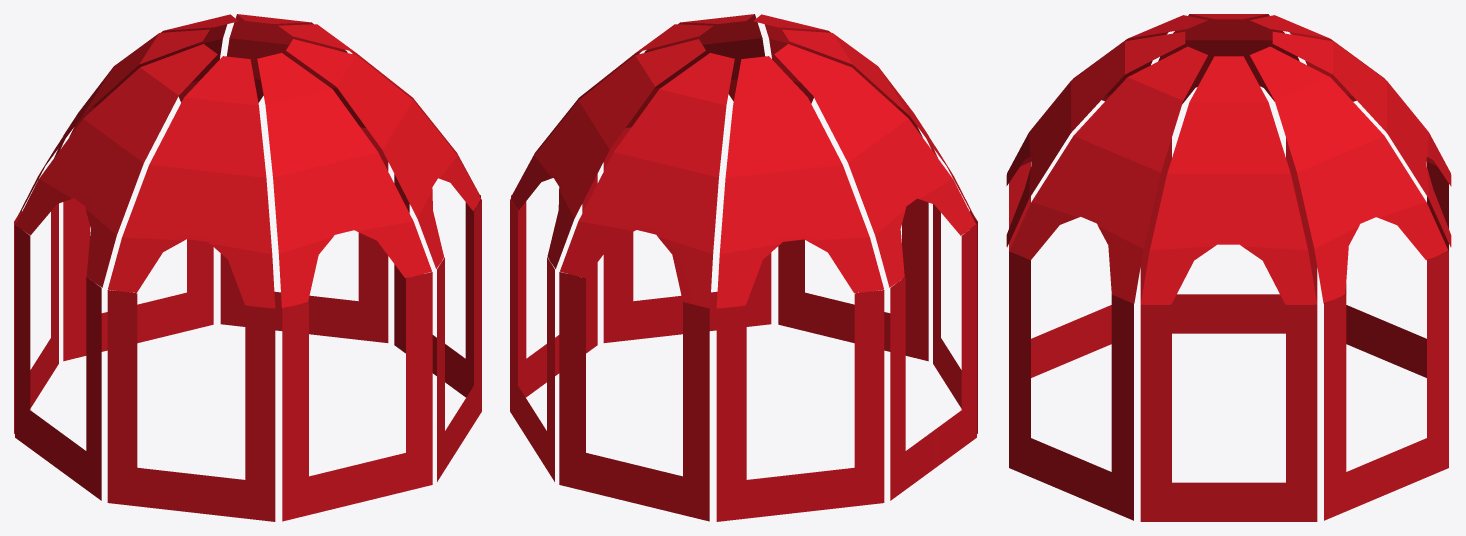
The model's file is wallpaper.glb.
3 renders of one model, left to right at view 1: azimuth 30°, elevation 25°; view 2: azimuth 150°, elevation 25°; view 3: azimuth 270°, elevation 25°, orthographic.
Visible parts, largest first — view 1: wallpaper; view 2: wallpaper; view 3: wallpaper.
Part boxes in pixels (<box>): wallpaper: <box>14,14,481,521</box>; wallpaper: <box>510,14,977,521</box>; wallpaper: <box>1006,14,1451,521</box>.
Bounding box in the file's own units: 1.93 × 1.86 × 1.93.
